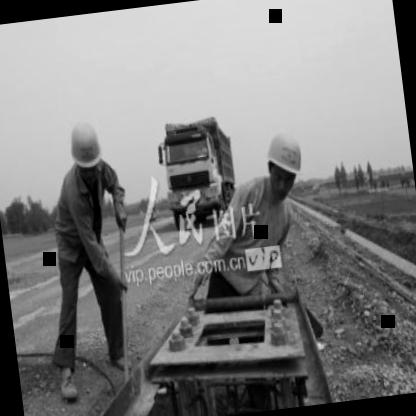helmet: (258, 118, 312, 206), (63, 110, 107, 189)
